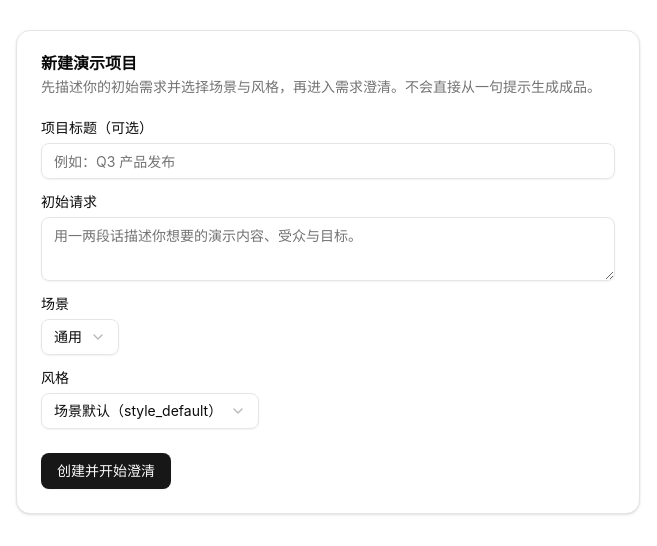
Test: project creation page › locates INVALID_SCENE to the scene field and preserves input
Type "保留这段文字" into the text box labelled "初始请求".
click(328, 249); type("保留这段文字")  # box [41, 217, 615, 281]
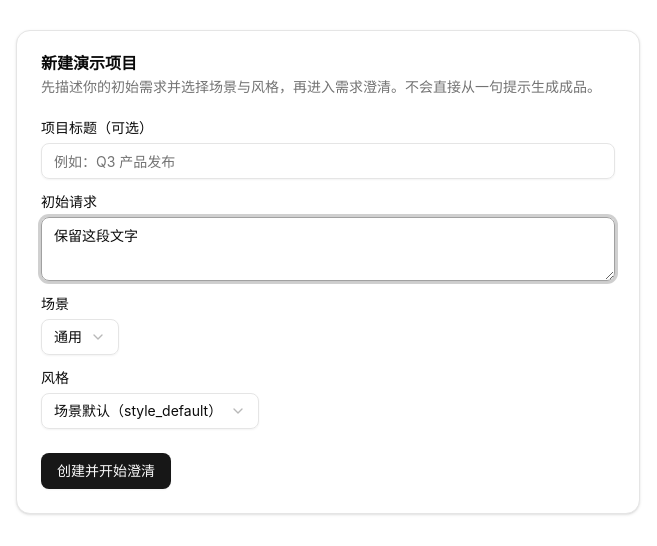
Click the button "创建并开始澄清".
click(106, 471)  # box [41, 453, 171, 489]
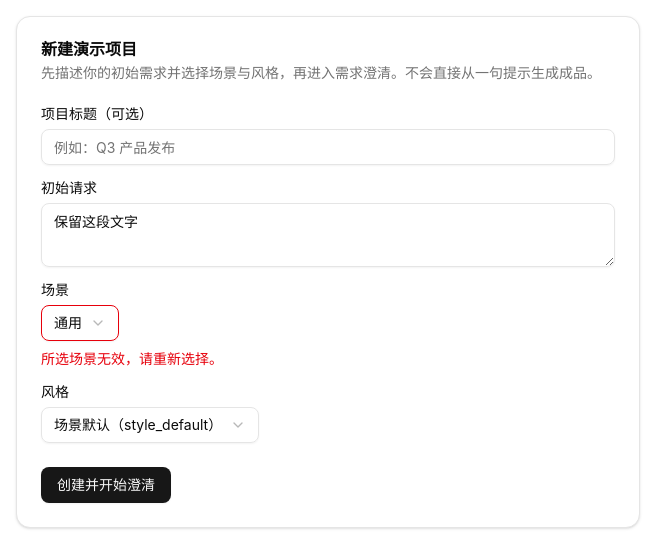
Expected: the text "所选场景无效，请重新选择。" is shown, [41, 350, 223, 367]
